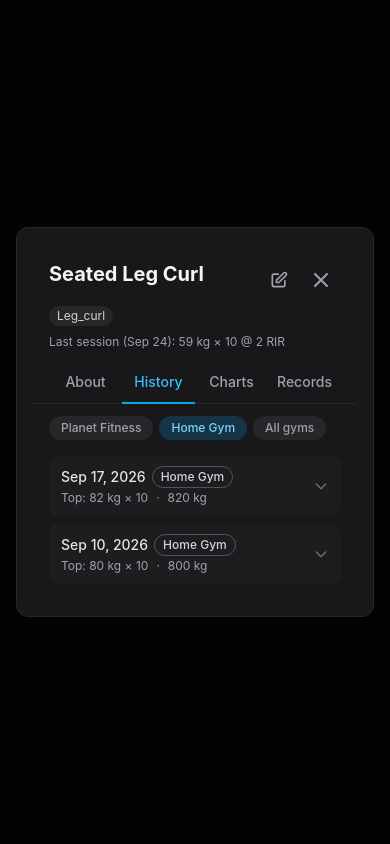
ExerciseDetailsModal — per-gym history › scopes Records to the selected gym and warns on the combined view
Click the tab with test id "exercise-detail-tab-records" at (304, 383), box [268,362,341,404]
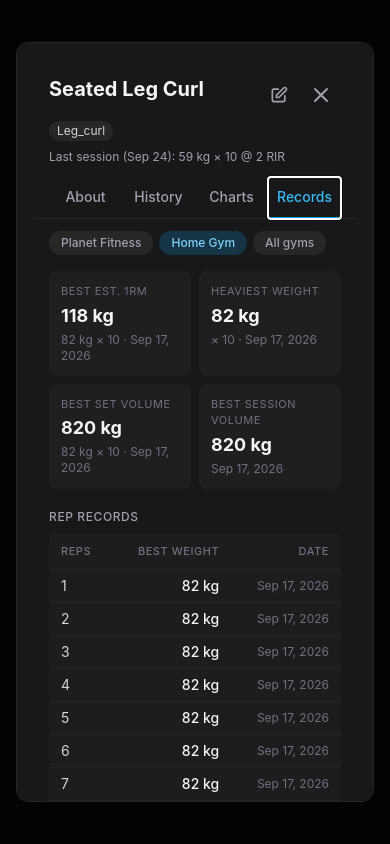
Click the radio button labelled "All gyms" at (290, 243), box [253,231,326,255]
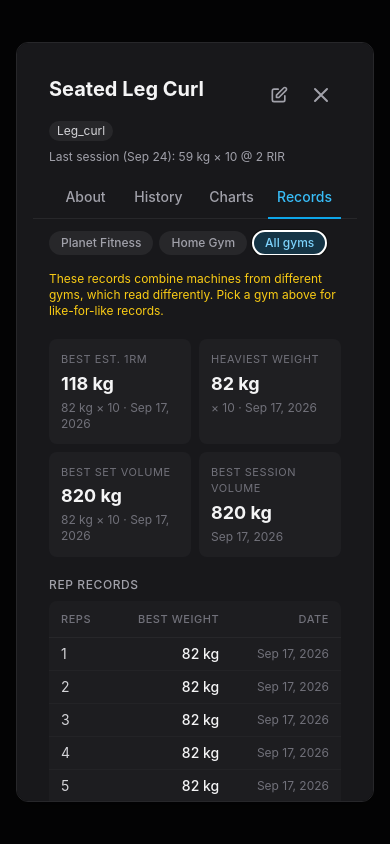
Result: the text with test id "records-mixed-gyms" is shown at [49,271,341,319]
